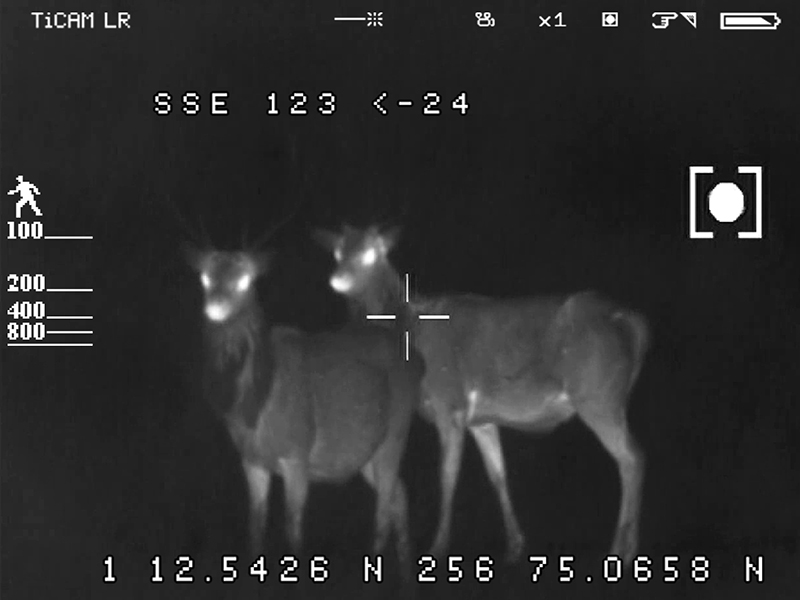cervo: (309, 218, 670, 566), (168, 208, 336, 561), (290, 216, 432, 313)
